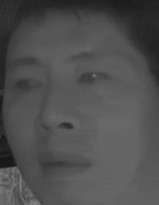eye: (74, 65, 112, 91), (12, 73, 44, 96)
mouth: (37, 143, 94, 182)
